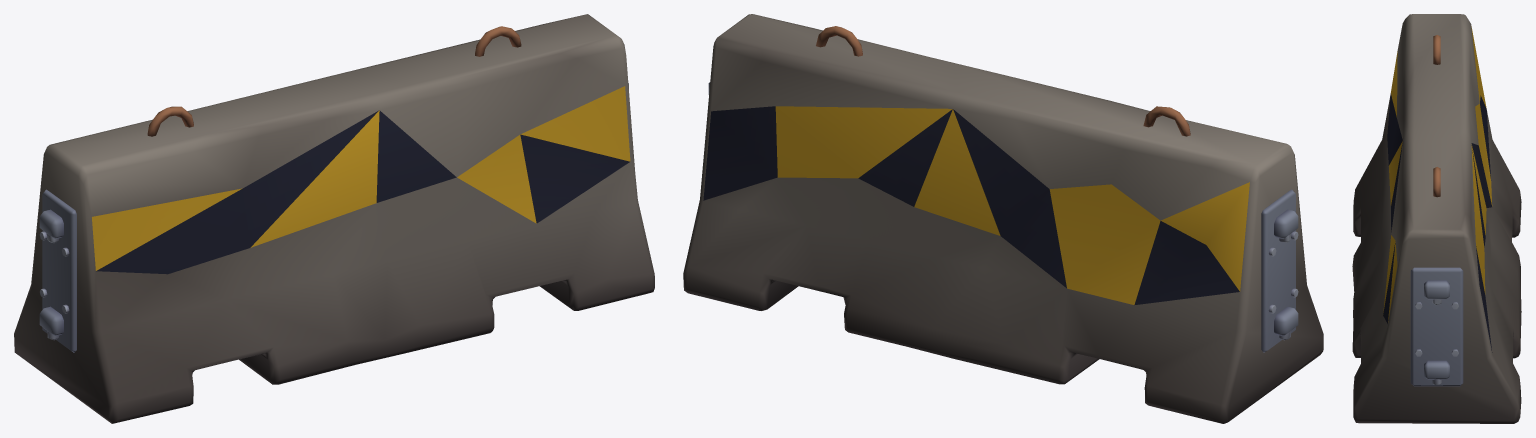
Rendered from barriere_jersey.glb.
The picture shows the model from 3 angles, left to right: view 1: azimuth 30°, elevation 25°; view 2: azimuth 150°, elevation 25°; view 3: azimuth 270°, elevation 25°; orthographic projection. The views are drawn at different scales.
Parts seen in each view (by area): view 1: barriere_jersey; view 2: barriere_jersey; view 3: barriere_jersey.
Boxes of the visible parts, x1=… form: barriere_jersey: x1=14, y1=14, x2=654, y2=423; barriere_jersey: x1=683, y1=14, x2=1323, y2=423; barriere_jersey: x1=1352, y1=14, x2=1521, y2=423.
Size of the model in its own units: 2.12 by 0.9006 by 0.6482.
